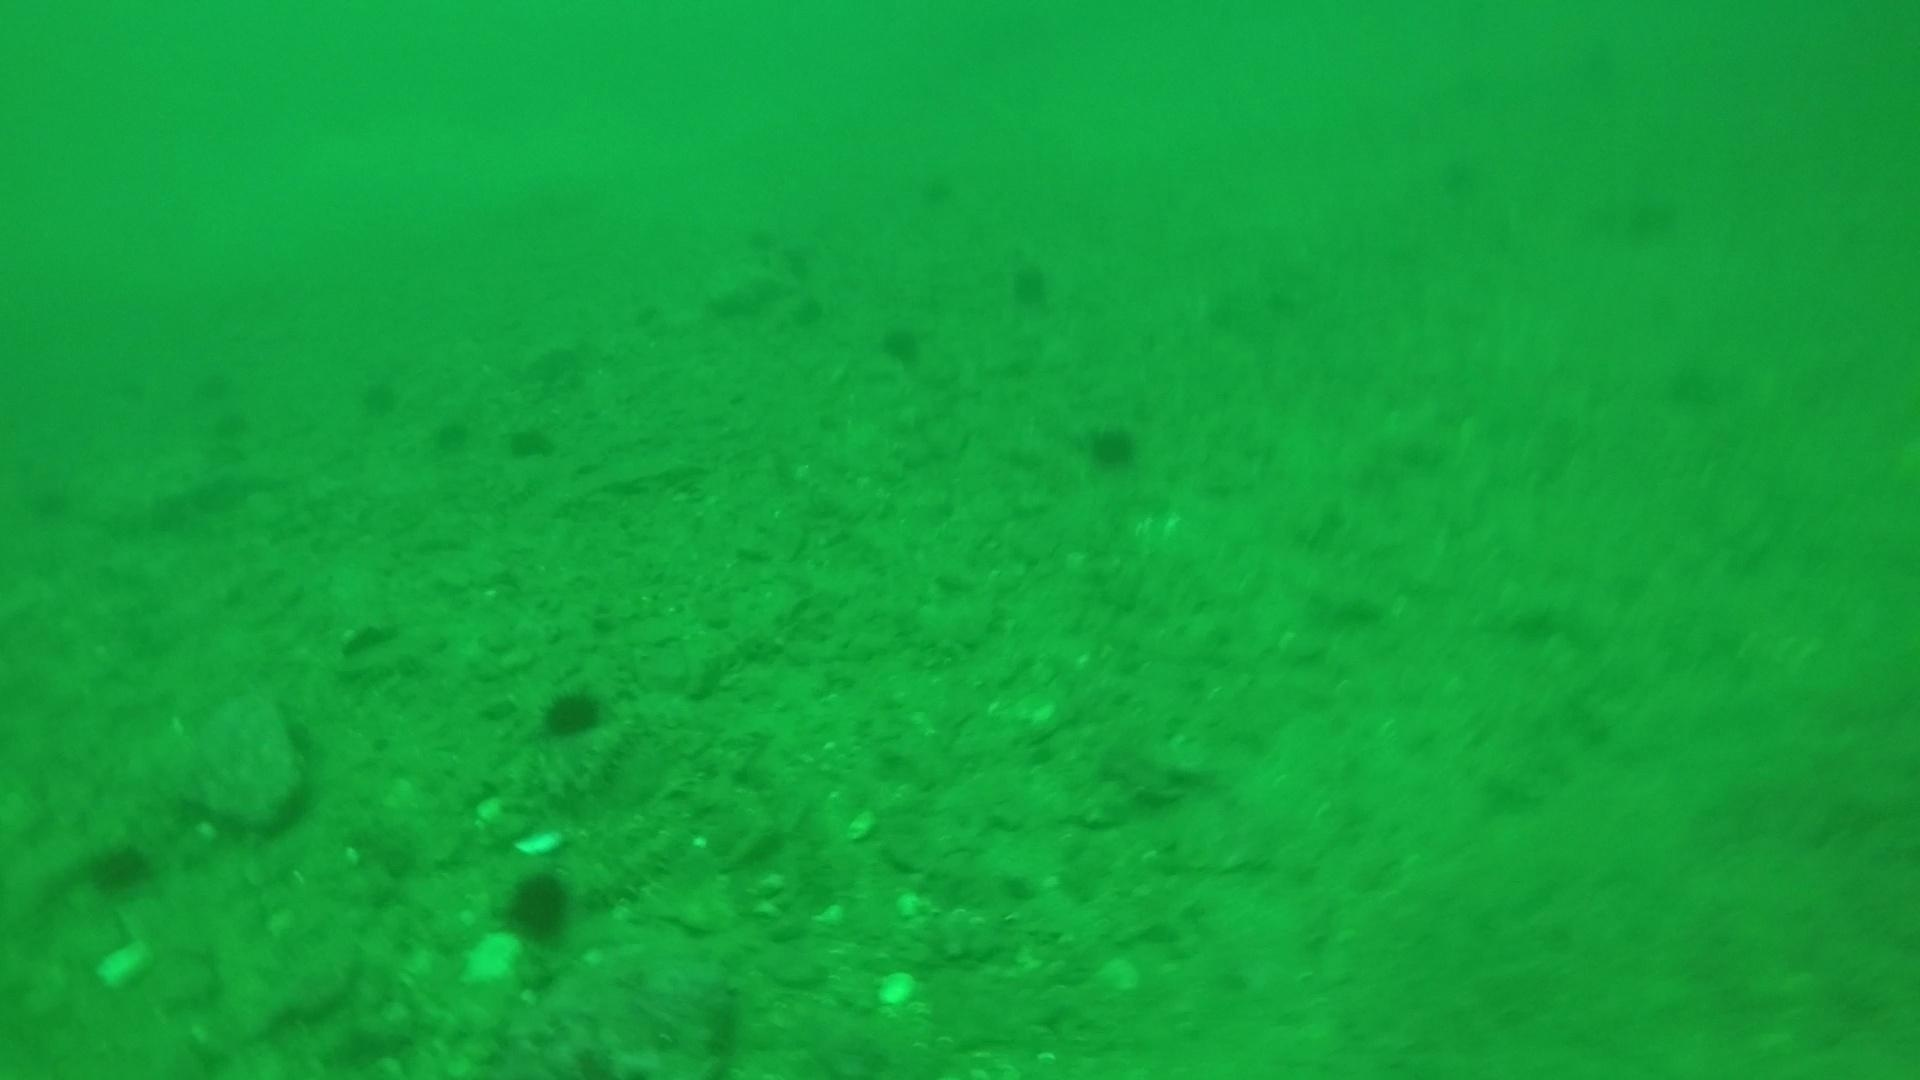echinus: (495, 864, 580, 949), (1607, 181, 1685, 248), (80, 833, 158, 899), (535, 680, 611, 742), (1662, 351, 1733, 415), (1080, 417, 1145, 473), (1004, 256, 1058, 313), (501, 417, 560, 465), (876, 318, 928, 371), (353, 371, 404, 419), (429, 411, 473, 458)
